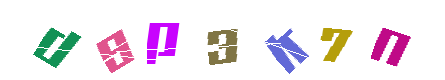3: (183, 0, 263, 80)
5: (97, 0, 177, 80)
7: (240, 0, 320, 80)
D: (16, 0, 96, 80)
K: (232, 0, 312, 80)
N: (350, 0, 430, 80)
P: (121, 0, 201, 80)
